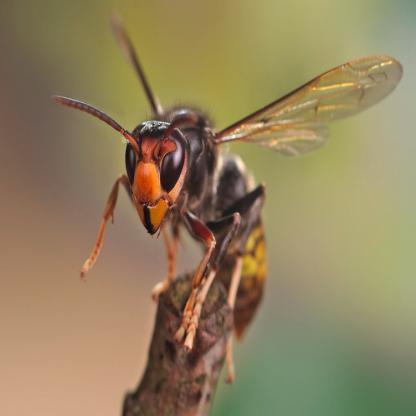asian: (56, 23, 400, 392)
